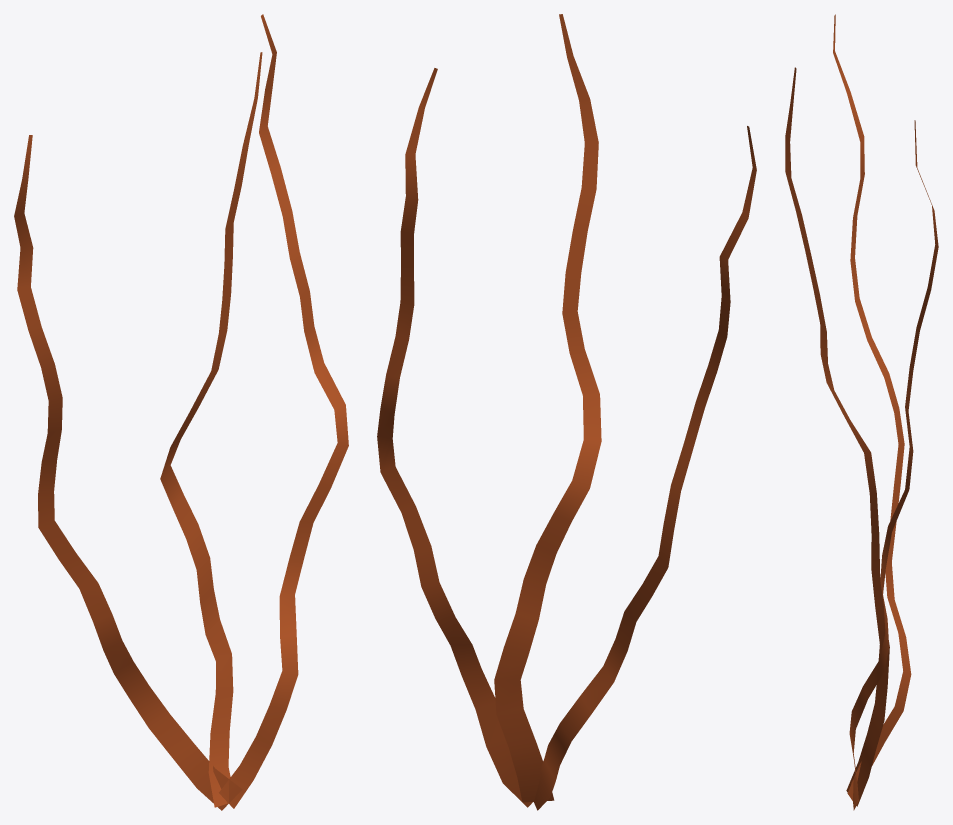
The model's file is coral_seagrass_D_raqam_mini_flat.fbx.
3 renders of one model, left to right at view 1: azimuth 30°, elevation 25°; view 2: azimuth 150°, elevation 25°; view 3: azimuth 270°, elevation 25°, orthographic. The views are drawn at different scales.
Visible parts, largest first — view 1: coral_seagrass_D_raqam_mini_flat; view 2: coral_seagrass_D_raqam_mini_flat; view 3: coral_seagrass_D_raqam_mini_flat.
Part boxes in pixels (left/top/right/bottom): coral_seagrass_D_raqam_mini_flat: left=14, top=14, right=348, bottom=810; coral_seagrass_D_raqam_mini_flat: left=377, top=14, right=756, bottom=810; coral_seagrass_D_raqam_mini_flat: left=785, top=14, right=938, bottom=810.
Bounding box in the file's own units: 61.68 × 130 × 24.35.
